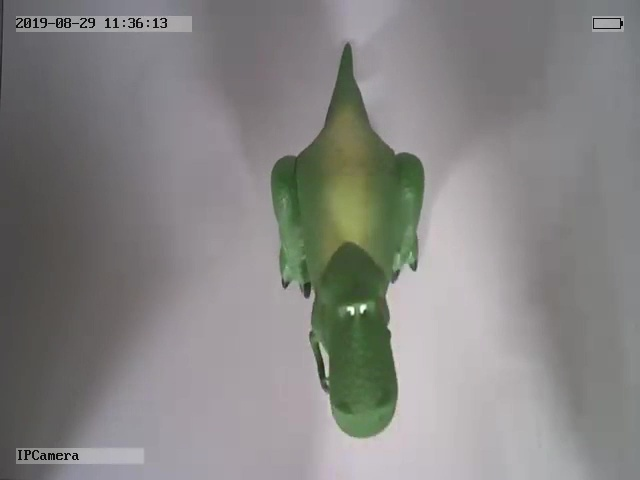rex: (267, 40, 427, 439)
